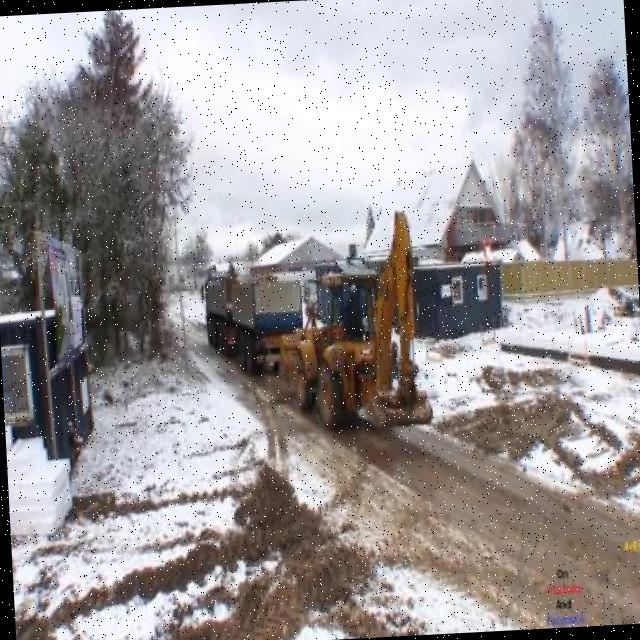Dump Truck: (230, 258, 308, 375), (200, 274, 252, 359)
